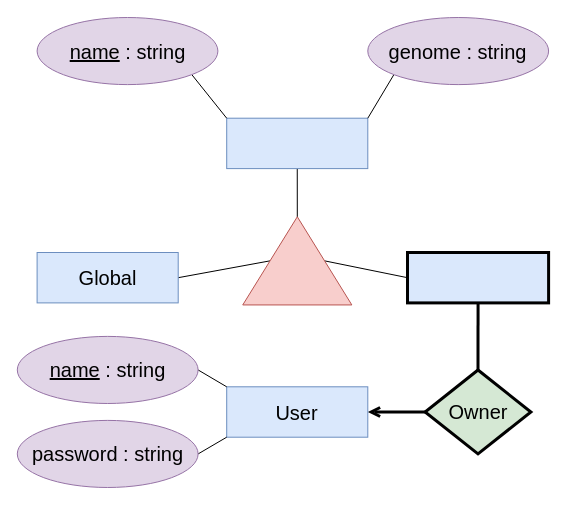
This 568x505 diagram has some shape labels left out. Here are the shapes that lost their labels. From the top down, the centre of each, then its label:
the point at 297,143: Preset
the point at 297,260: ISA
the point at 478,277: Local
